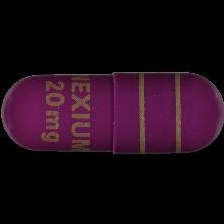54868-4635: (0, 0, 224, 224)
